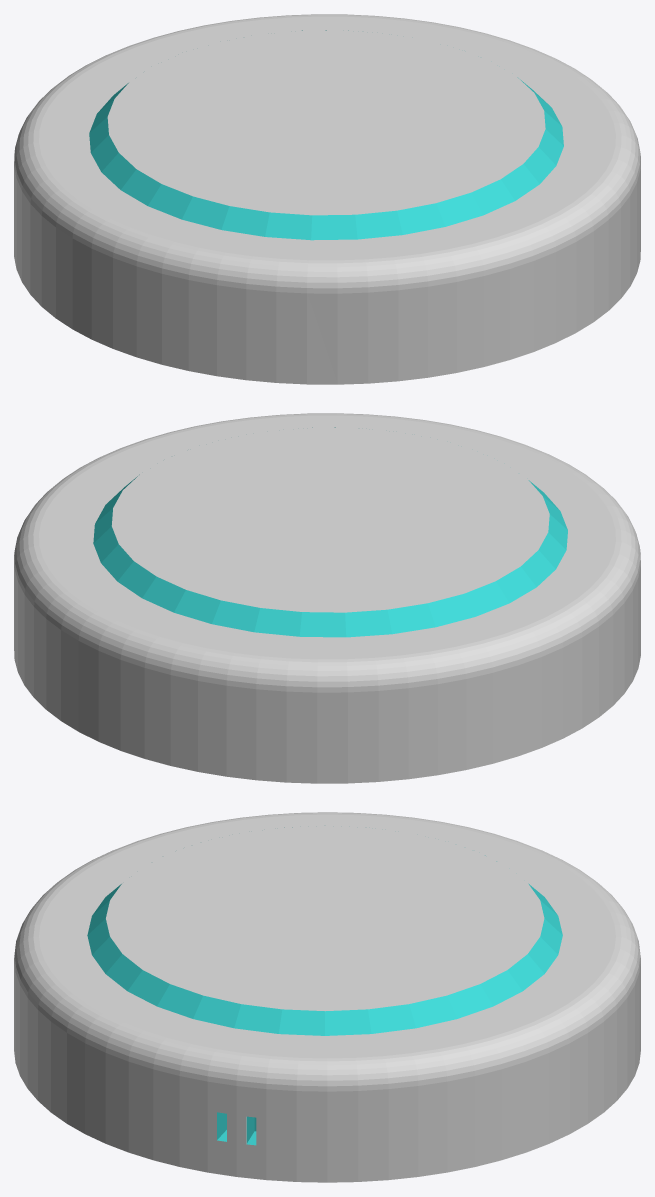
The model's file is baseModelA.glb.
3 views of the same model, one above another, from view 1: azimuth 30°, elevation 25°; view 2: azimuth 150°, elevation 25°; view 3: azimuth 270°, elevation 25° (orthographic).
Visible parts, largest first — view 1: 柱体A, 柱体B; view 2: 柱体A, 柱体B; view 3: 柱体A, 柱体B.
Part boxes in pixels (x1,y1,x2,y2): 柱体A: (14, 14, 640, 384); 柱体B: (89, 30, 563, 240); 柱体A: (14, 413, 640, 783); 柱体B: (93, 427, 567, 637); 柱体A: (14, 812, 640, 1182); 柱体B: (87, 827, 562, 1145).
Bounding box in the file's own units: 1 × 0.23 × 1.
